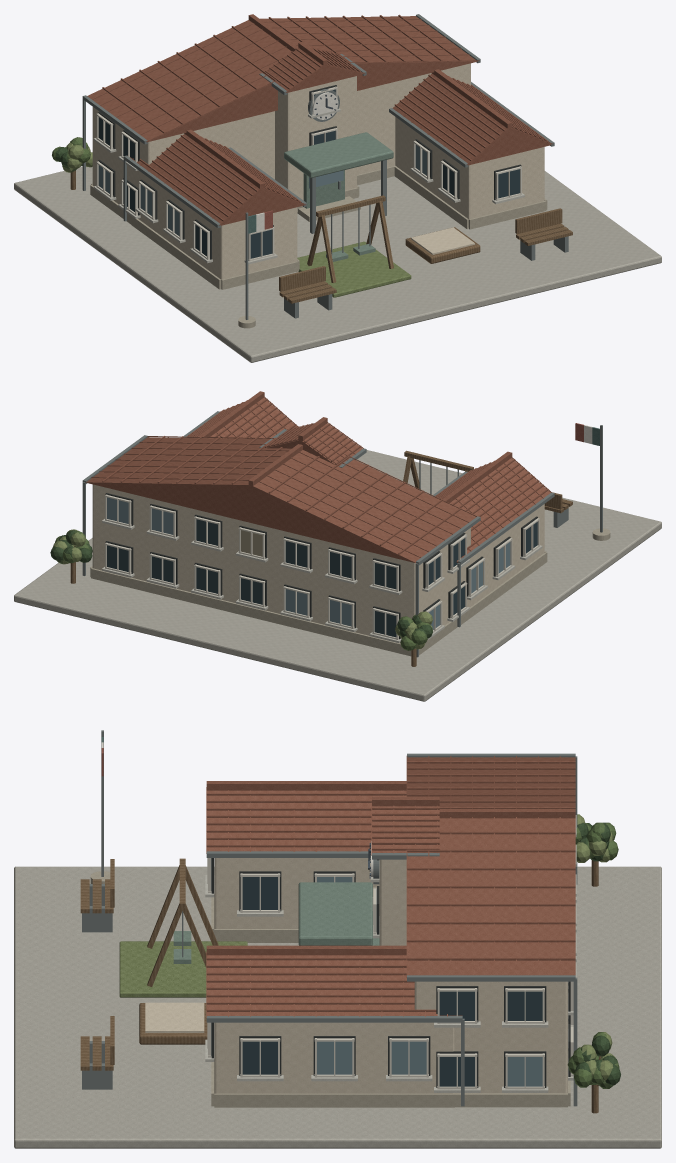
File: EDU_SCHOOL_3x3_001.glb
3 renders of one model, top to bottom at view 1: azimuth 30°, elevation 25°; view 2: azimuth 150°, elevation 25°; view 3: azimuth 270°, elevation 25°, orthographic. The views are drawn at different scales.
Visible parts, largest first — view 1: EDU_SCHOOL_3x3_001_Visual; view 2: EDU_SCHOOL_3x3_001_Visual; view 3: EDU_SCHOOL_3x3_001_Visual.
Boxes of the visible parts, left/top/right/bottom form: EDU_SCHOOL_3x3_001_Visual: left=14, top=14, right=661, bottom=362; EDU_SCHOOL_3x3_001_Visual: left=14, top=391, right=661, bottom=701; EDU_SCHOOL_3x3_001_Visual: left=14, top=730, right=661, bottom=1148.
Size of what is drawn, in the model's own units: 5.92 by 2.16 by 5.92.
23 materials, 17 textured.
